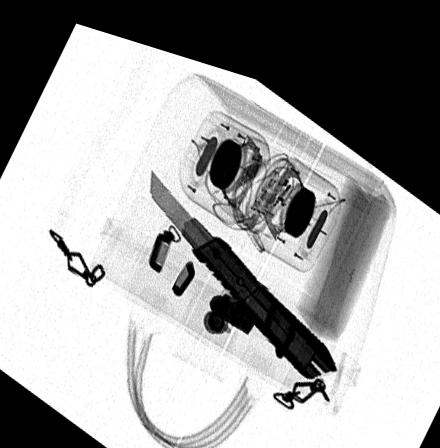Knife: (147, 159, 338, 361)
